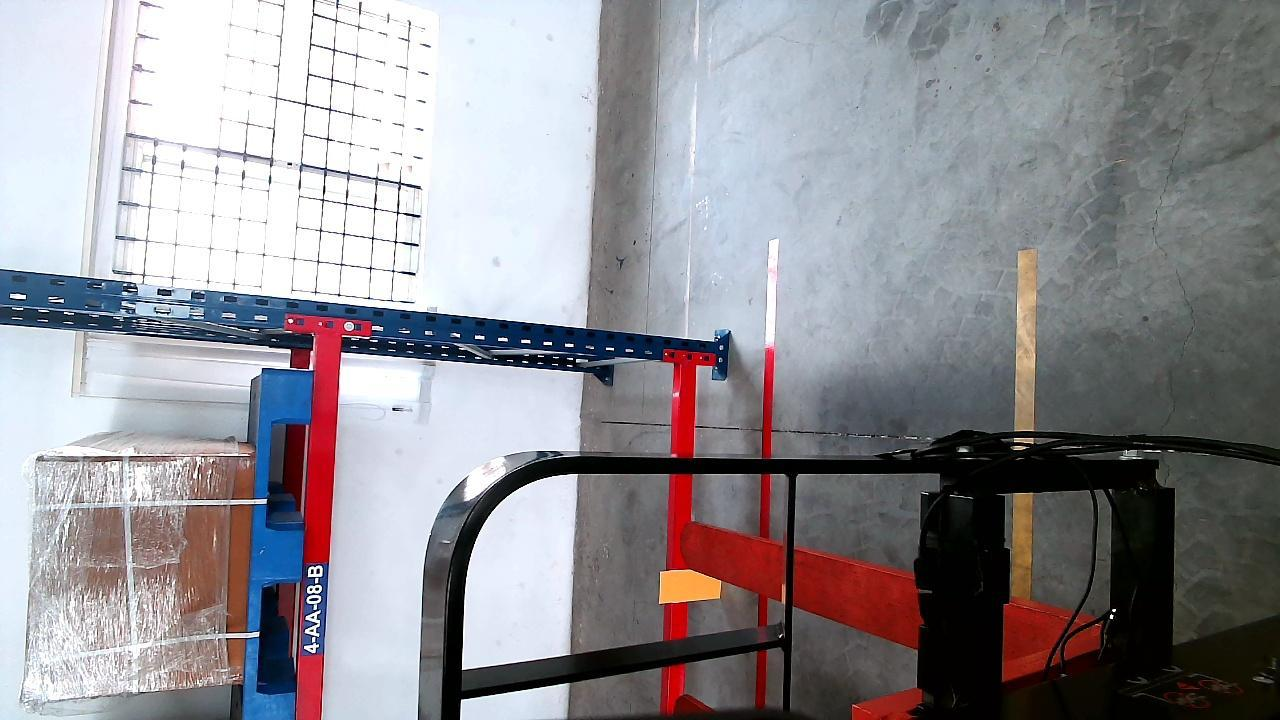red_line: (750, 239, 783, 708)
yellow_line: (1004, 246, 1042, 598)
